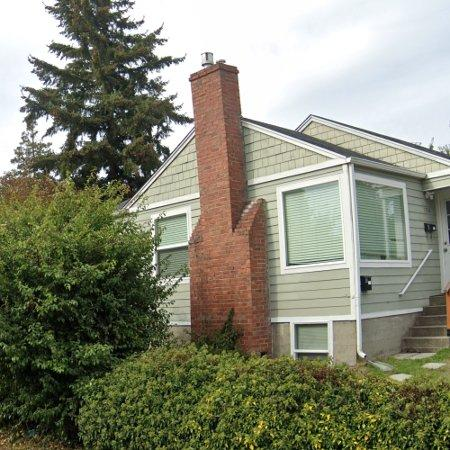chimneys: (189, 52, 271, 355)
stairs: (403, 294, 450, 353)
